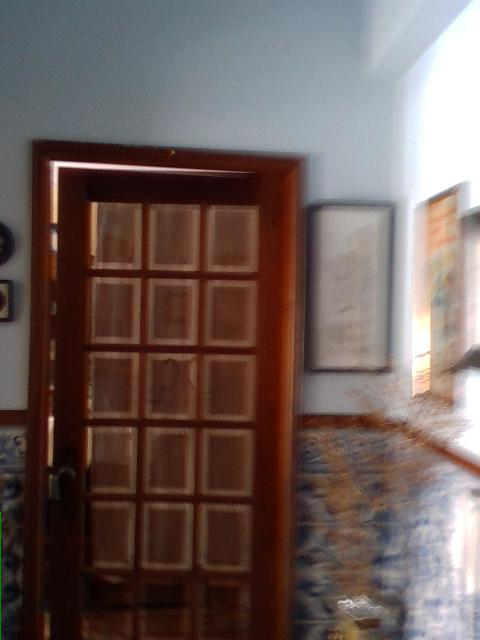door: (22, 135, 307, 639)
